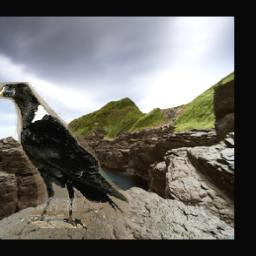Crow: (0, 82, 129, 228)
